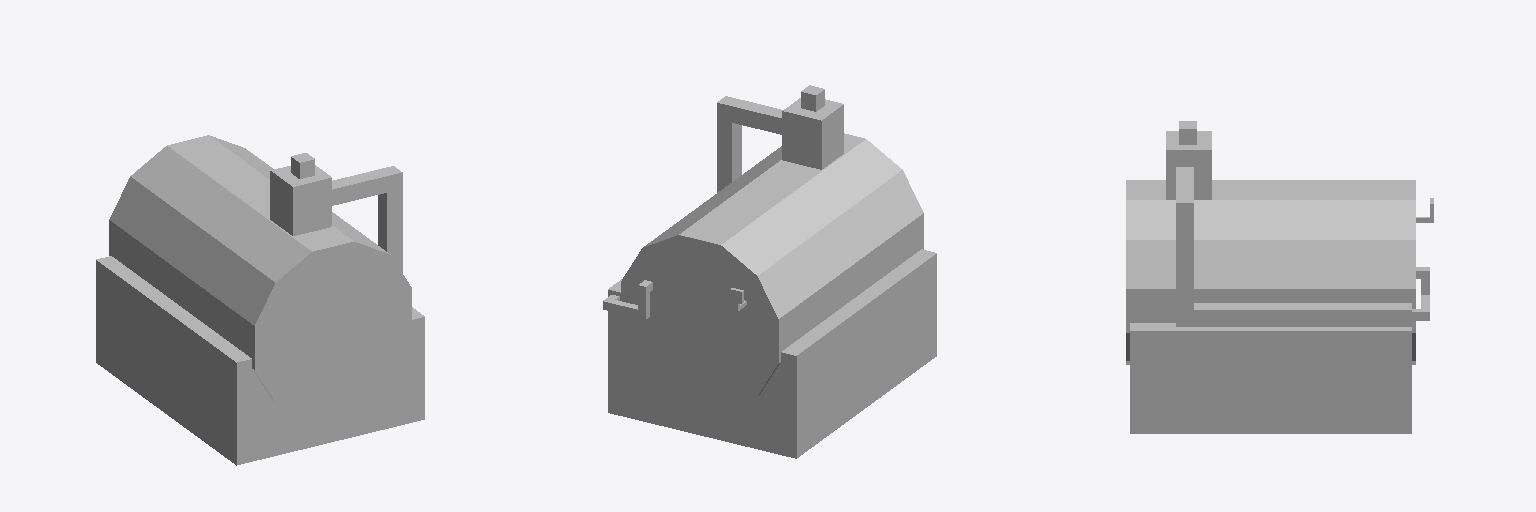
File: small_coal_boiler.obj
3 views of the same model, side by side, from view 1: azimuth 30°, elevation 25°; view 2: azimuth 150°, elevation 25°; view 3: azimuth 270°, elevation 25° (orthographic).
Parts seen in each view (by area): view 1: tube, cube; view 2: tube, cube; view 3: cube, tube.
Boxes of the visible parts, <box> form: tube: <box>109,135,411,415</box>; cube: <box>96,153,424,465</box>; tube: <box>621,133,923,409</box>; cube: <box>603,85,936,458</box>; cube: <box>1130,121,1433,433</box>; tube: <box>1126,180,1415,364</box>.
Size of the model in its own units: 3 by 4 by 4.25.